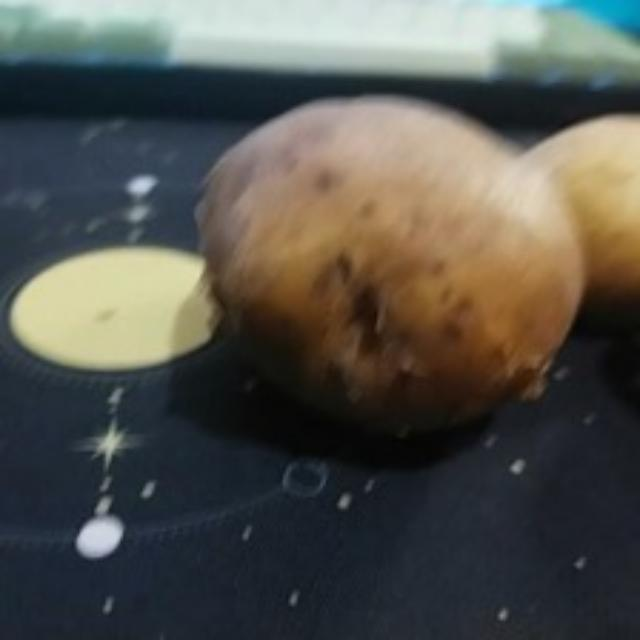Damaged potato: (184, 94, 584, 436)
Potato: (512, 112, 638, 292)
